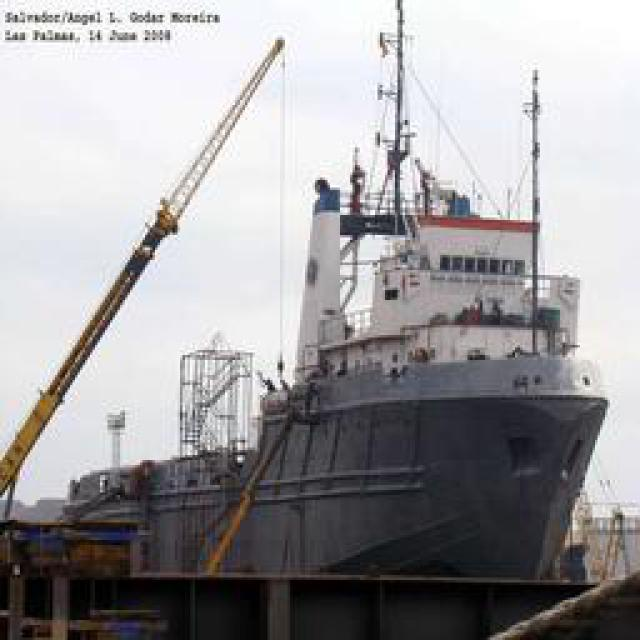Ship: (98, 4, 606, 594)
